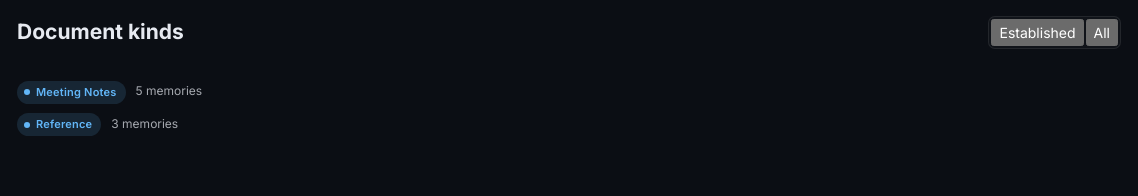
Test: DocKindsPanel › clicking a kind loads its memories
This screenshot has width=1138, height=196.
Click the button "meeting notes": (71, 91) left=17, top=79, right=126, bottom=104
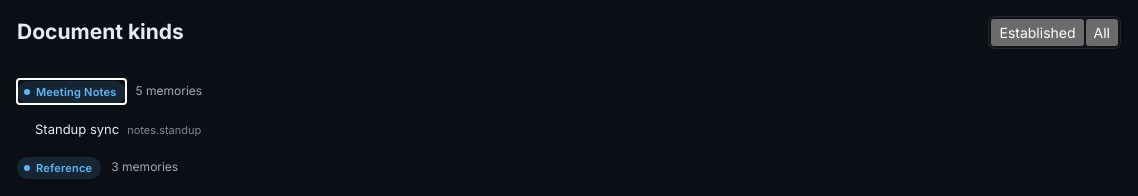
expect the text "Standup sync" is shown: met, box left=35, top=121, right=119, bottom=137
